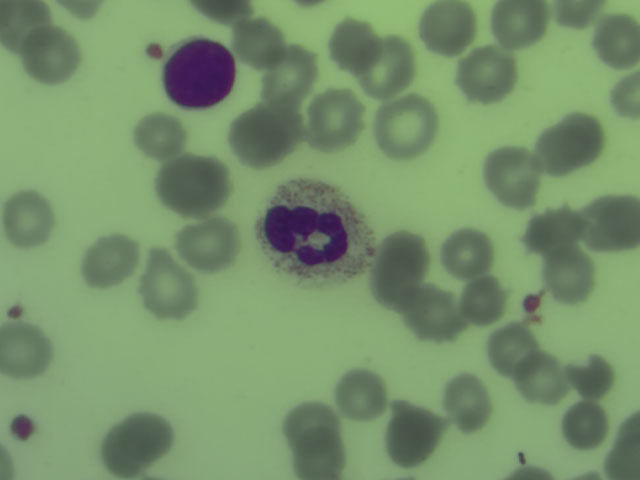Platelets: (6, 412, 40, 442), (140, 33, 169, 67), (520, 289, 544, 319), (4, 303, 30, 326)
RBC: (163, 154, 229, 212), (287, 426, 341, 480), (440, 227, 494, 280), (366, 264, 420, 317), (458, 279, 512, 332), (404, 294, 458, 347), (483, 324, 537, 377), (515, 351, 569, 404), (563, 349, 617, 402), (559, 399, 613, 452), (543, 250, 597, 303), (530, 202, 584, 255), (586, 194, 640, 247), (486, 149, 540, 202), (545, 115, 599, 168), (586, 15, 640, 68), (462, 49, 516, 102), (440, 377, 494, 430), (385, 407, 439, 460), (281, 399, 335, 452), (335, 367, 389, 420), (380, 101, 434, 154), (361, 39, 415, 92), (327, 18, 381, 71), (233, 18, 287, 71), (260, 54, 314, 107), (307, 93, 361, 146), (235, 110, 289, 163), (135, 109, 189, 162), (181, 220, 235, 273), (108, 418, 162, 471), (137, 261, 191, 314), (83, 236, 137, 289), (23, 27, 77, 80), (1, 325, 54, 378), (1, 190, 54, 243), (493, 1, 547, 53), (422, 1, 476, 53), (1, 1, 53, 53), (372, 225, 430, 271), (600, 437, 640, 480), (550, 1, 607, 29), (196, 1, 257, 25)
WBC: (259, 175, 373, 290), (166, 38, 239, 107)
